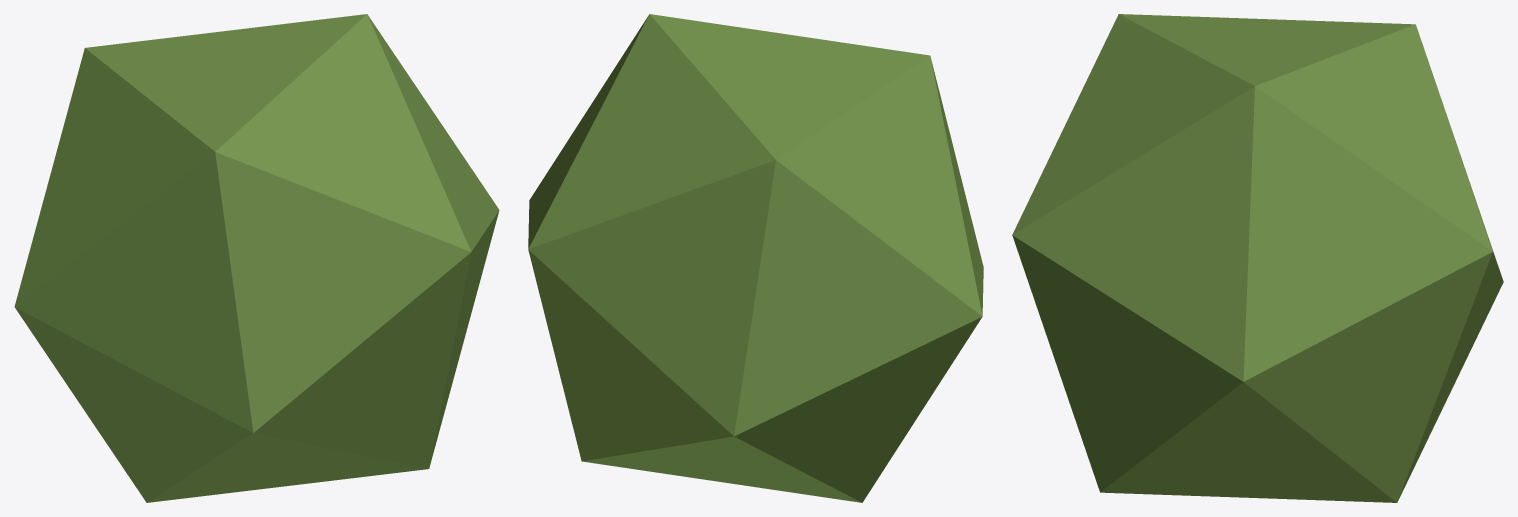
File: canopy-3.glb
3 renders of one model, left to right at view 1: azimuth 30°, elevation 25°; view 2: azimuth 150°, elevation 25°; view 3: azimuth 270°, elevation 25°, orthographic. The views are drawn at different scales.
Visible parts, largest first — view 1: Canopy 3; view 2: Canopy 3; view 3: Canopy 3.
Boxes of the visible parts, bbox=[...] form: Canopy 3: bbox=[14, 14, 499, 502]; Canopy 3: bbox=[528, 14, 983, 502]; Canopy 3: bbox=[1012, 14, 1503, 502].
Size of the model in its own units: 28.02 by 24.89 by 24.37.
